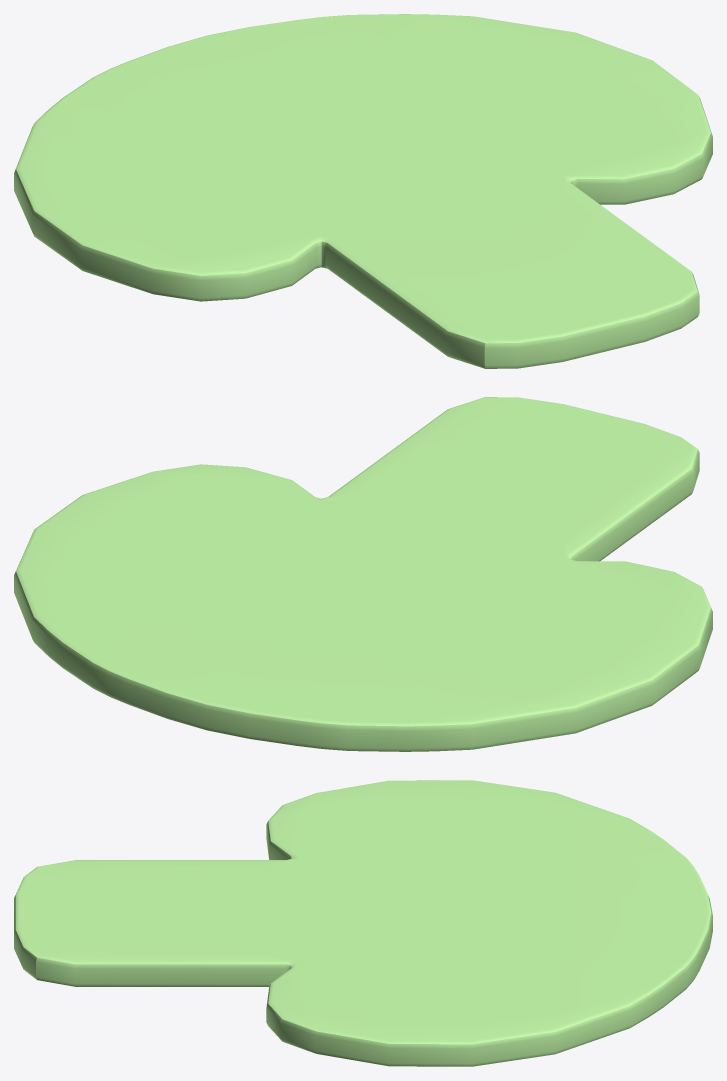
The model's file is Mushroom.fbx.
3 views of the same model, one above another, from view 1: azimuth 30°, elevation 25°; view 2: azimuth 150°, elevation 25°; view 3: azimuth 270°, elevation 25° (orthographic). The views are drawn at different scales.
Parts seen in each view (by area): view 1: mushroom; view 2: mushroom; view 3: mushroom.
Boxes of the visible parts, x1,y1,x2,y2 form: mushroom: (14, 14, 712, 368); mushroom: (14, 397, 712, 751); mushroom: (14, 780, 712, 1066).
Bounding box in the file's own units: 0.1508 × 0.00673 × 0.1678.
